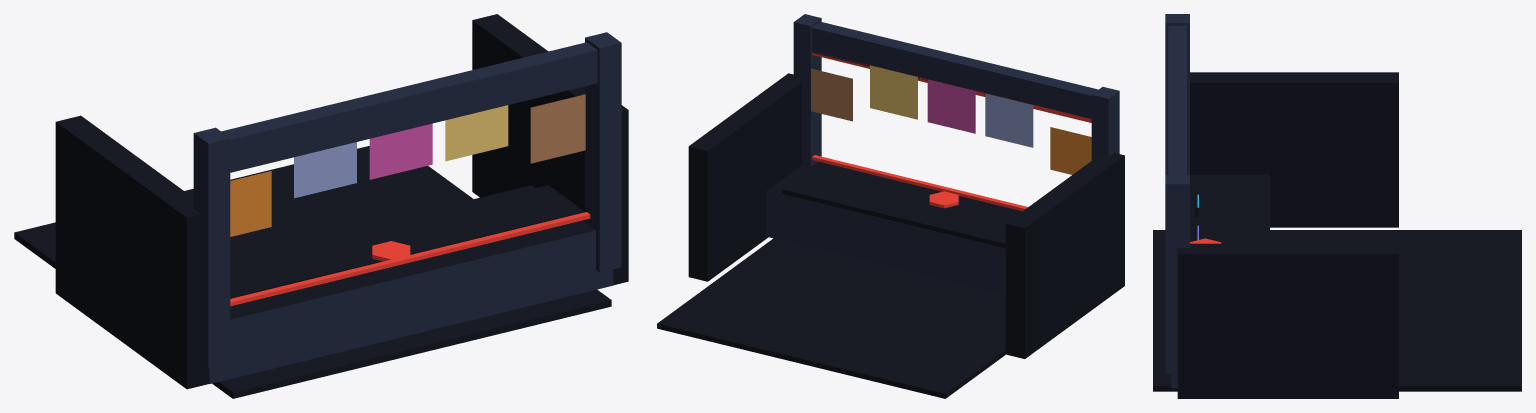
Rendered from cockpit.glb.
3 renders of one model, left to right at view 1: azimuth 30°, elevation 25°; view 2: azimuth 150°, elevation 25°; view 3: azimuth 270°, elevation 25°, orthographic. The views are drawn at different scales.
Visible parts, largest first — view 1: Cockpit; view 2: Cockpit; view 3: Cockpit.
Boxes of the visible parts, bbox=[...] form: Cockpit: bbox=[14, 14, 628, 398]; Cockpit: bbox=[657, 14, 1124, 398]; Cockpit: bbox=[1153, 14, 1521, 398].
Bounding box in the file's own units: 7 × 3.85 × 6.
10 materials, 10 textured.
